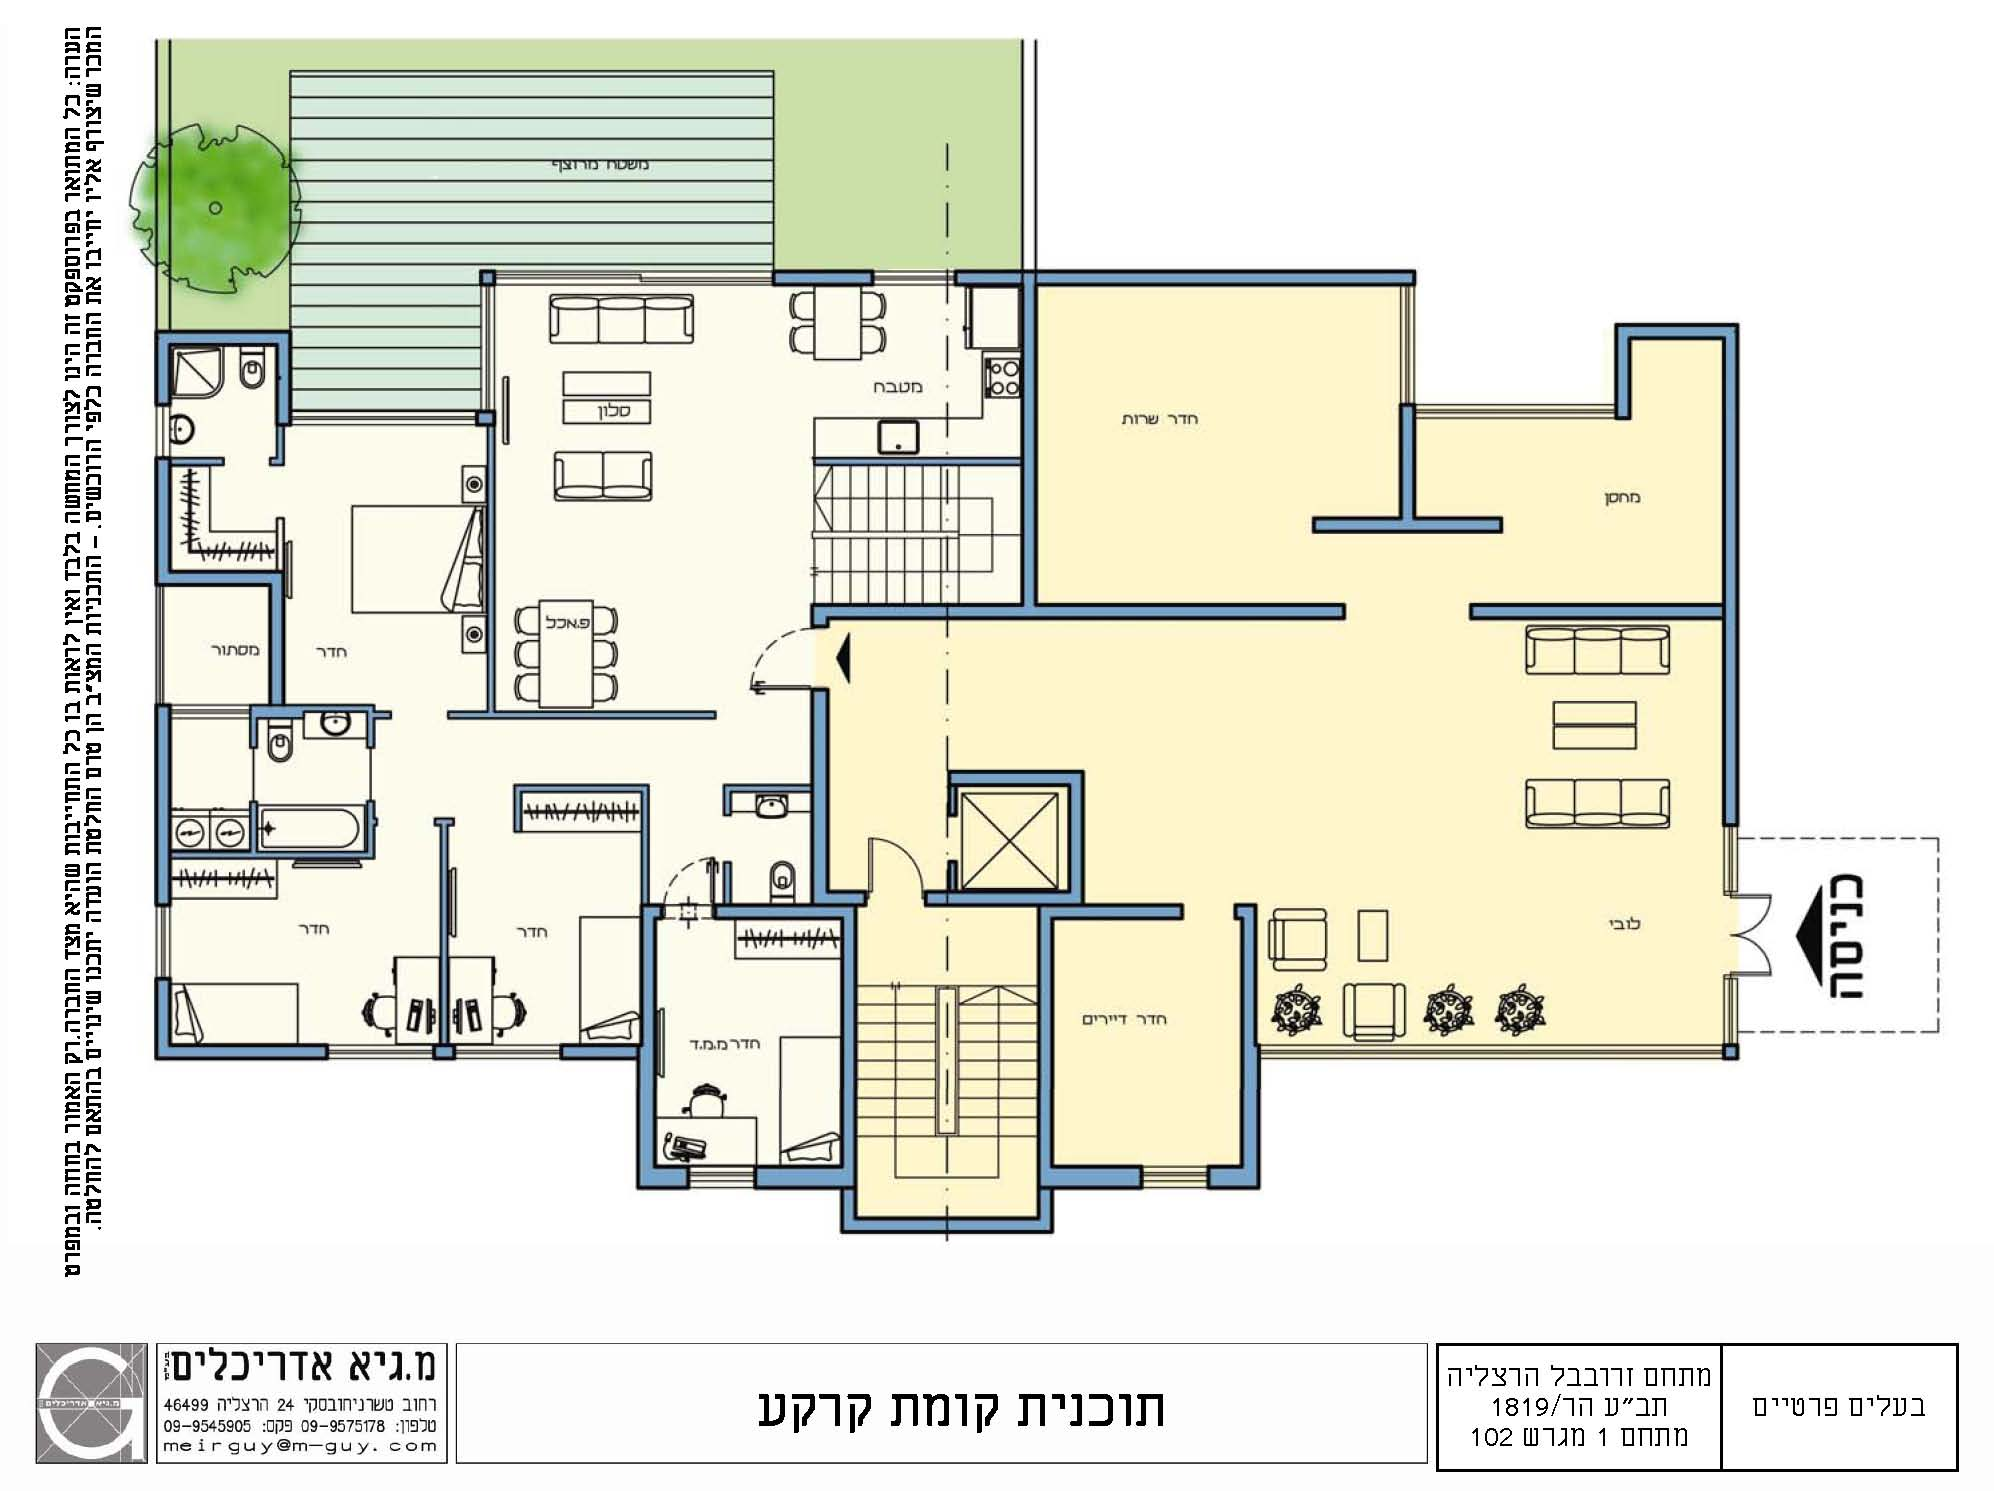door: (735, 623, 808, 700)
window: (1414, 403, 1617, 417), (294, 412, 475, 424), (481, 288, 497, 409), (1402, 288, 1414, 396), (877, 269, 954, 287), (639, 273, 760, 280)
